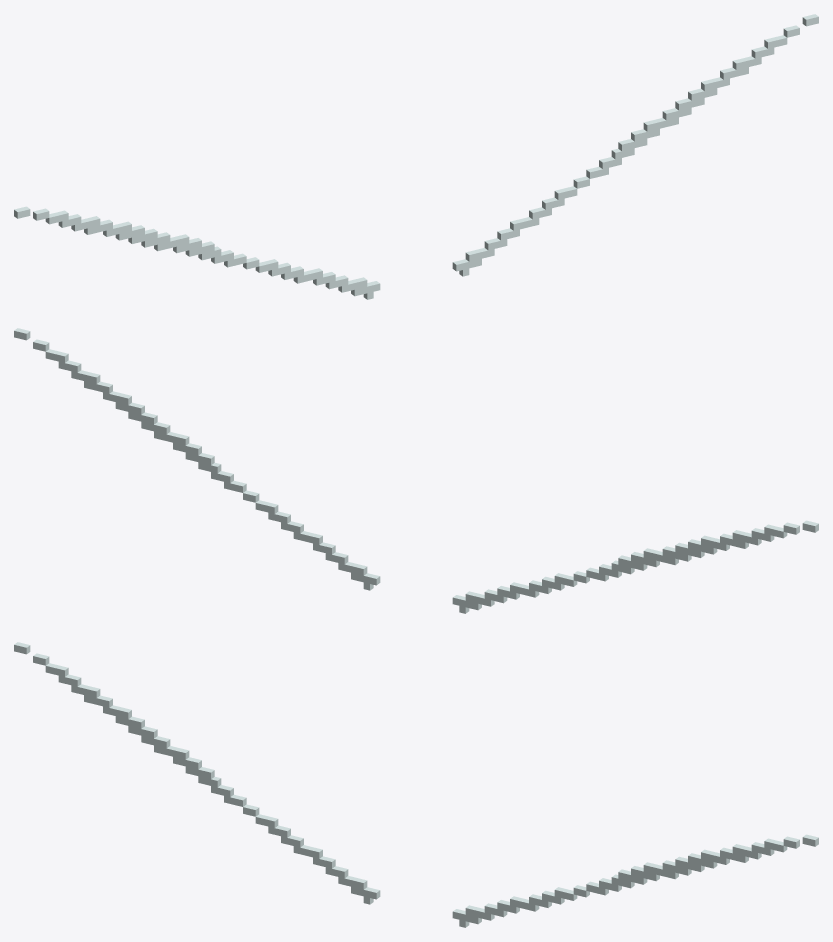
File: Fight_746_2_05_fx.obj
3 views of the same model, one above another, from view 1: azimuth 30°, elevation 25°; view 2: azimuth 150°, elevation 25°; view 3: azimuth 330°, elevation 25° (orthographic).
Size of the model in its own units: 12.6 by 2.6 by 0.1.
